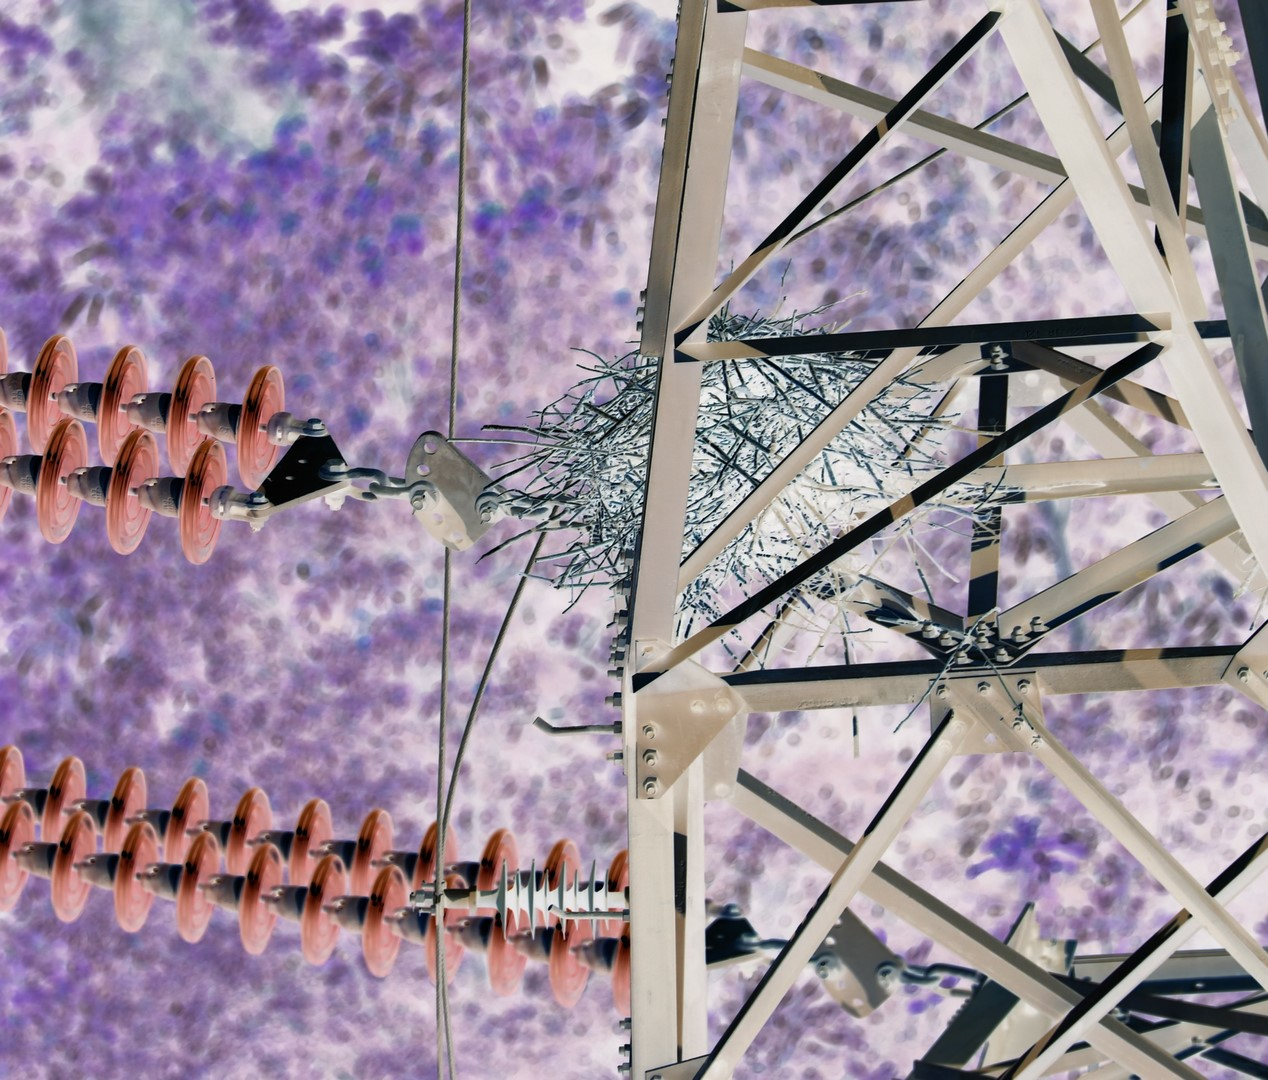niaowo: (499, 303, 991, 625)
